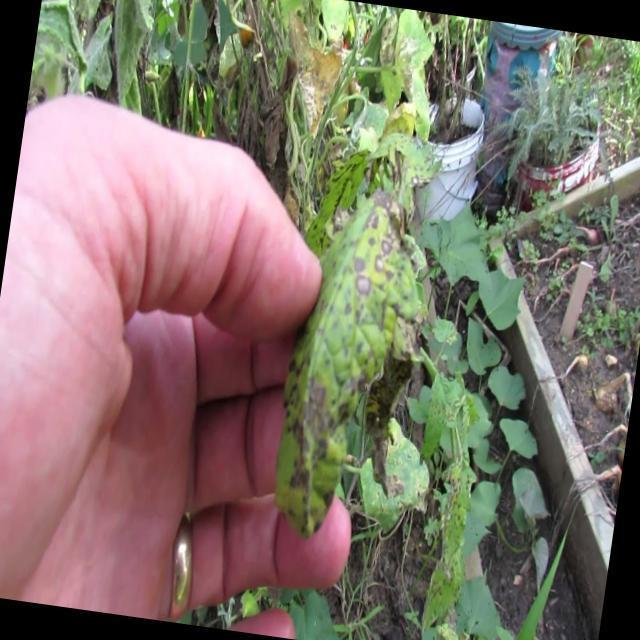Septoria: (276, 186, 416, 526)
